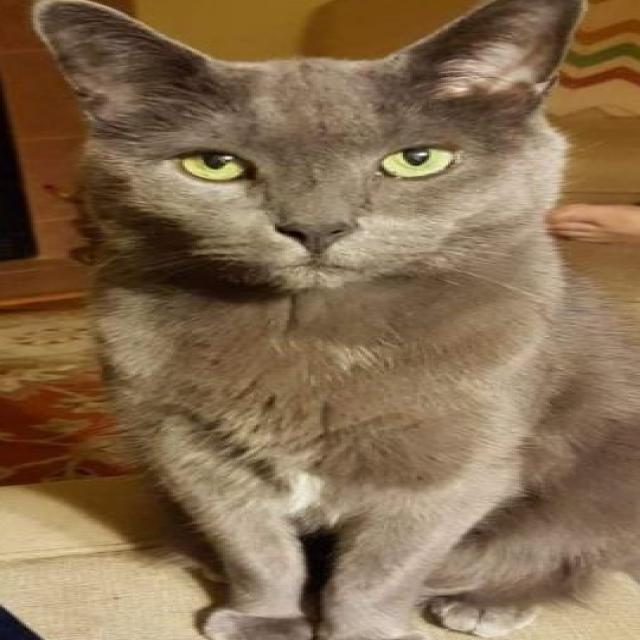Russian Blue: (21, 0, 640, 640)
